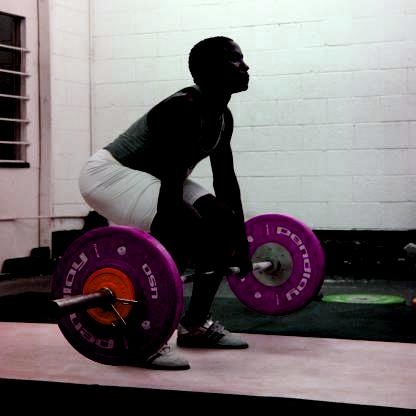Barbell: (44, 295, 65, 322)
